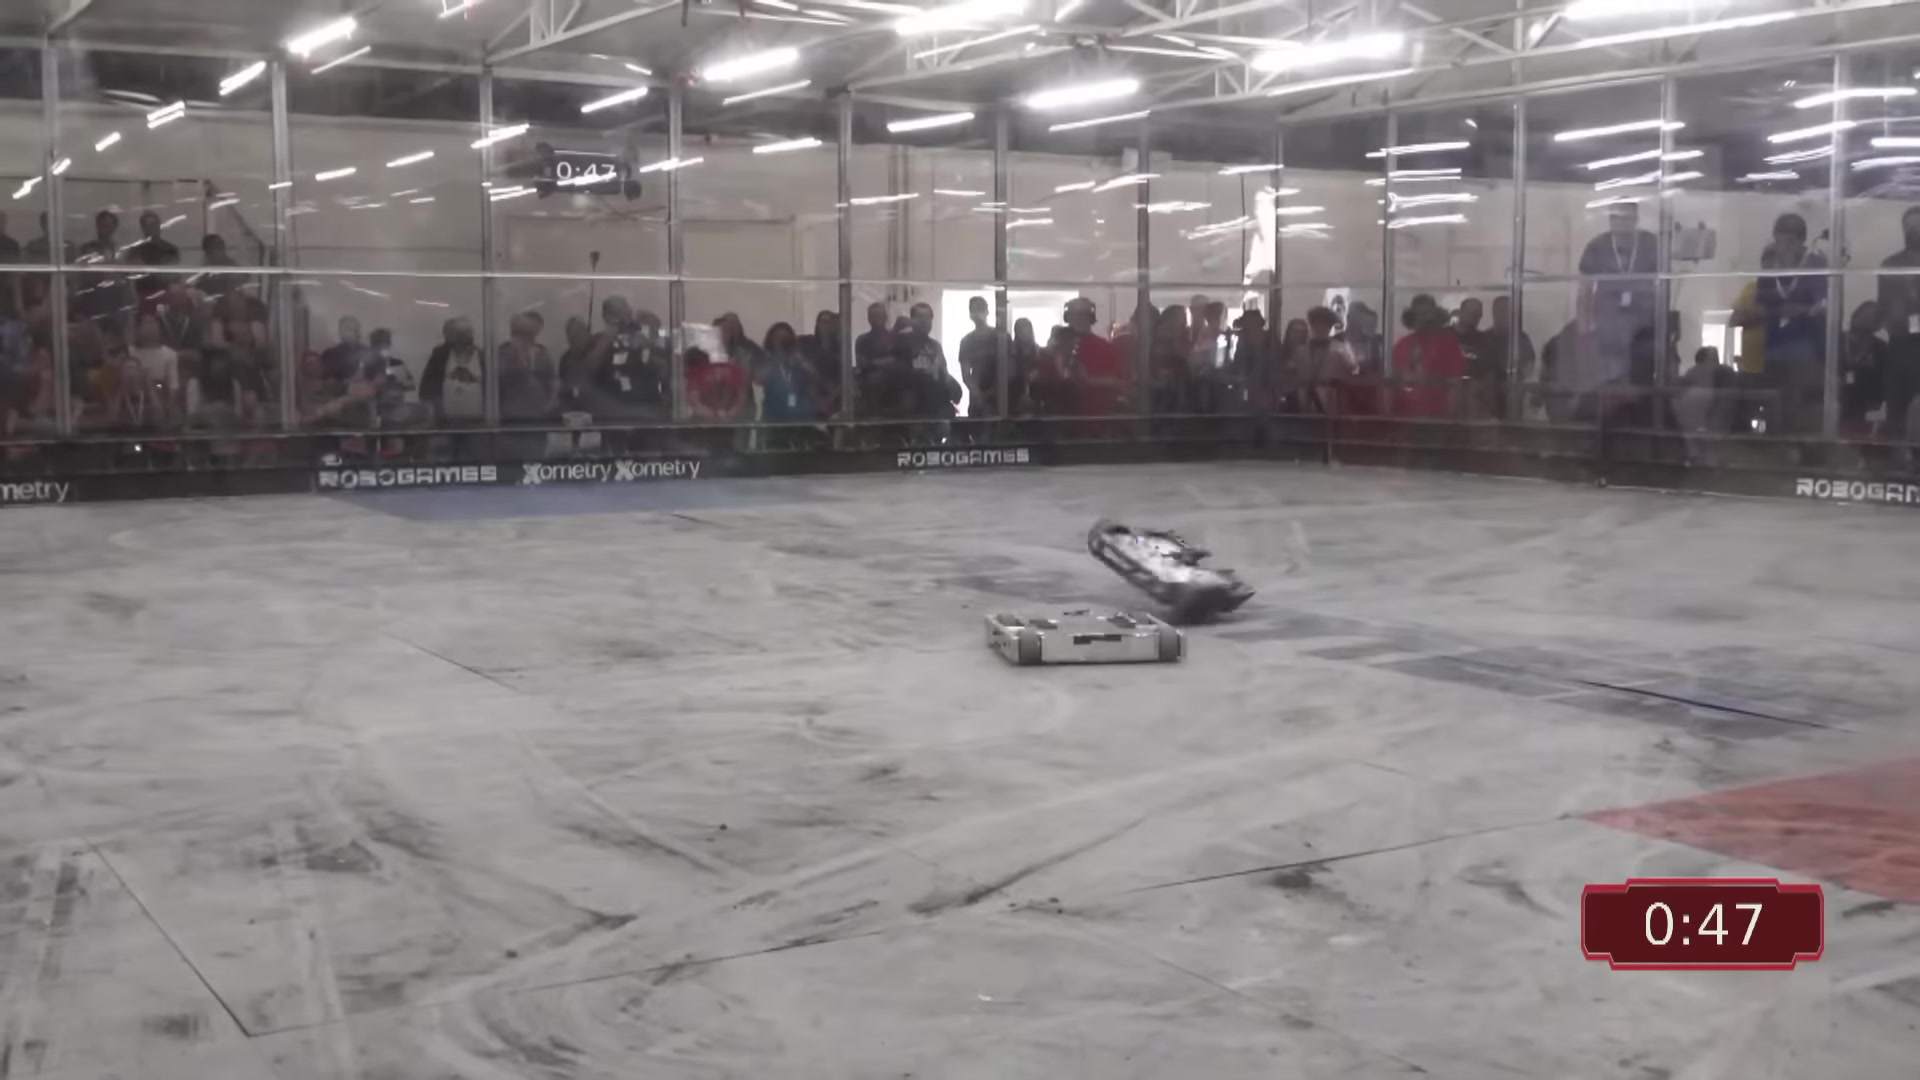combatbot: (1088, 518, 1251, 624), (984, 607, 1189, 671)
